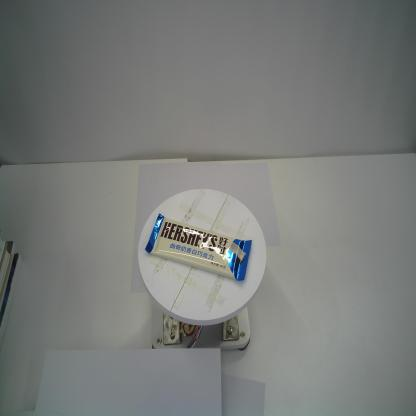Chocolate: (144, 212, 252, 281)
